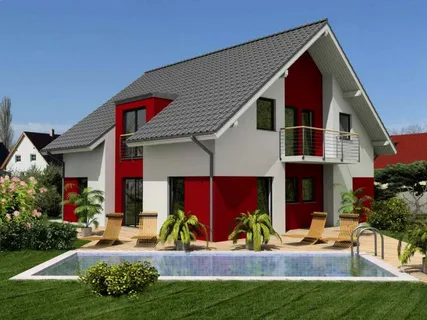private_hause: (69, 50, 380, 247)
